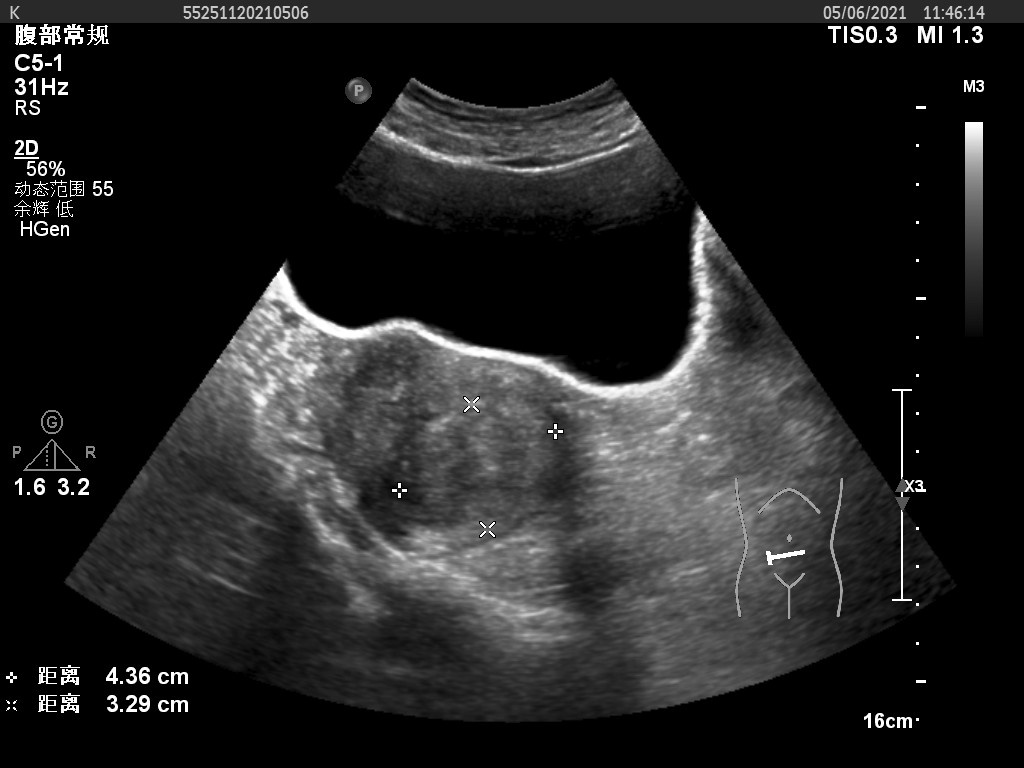肌瘤: (398, 405, 560, 532)
